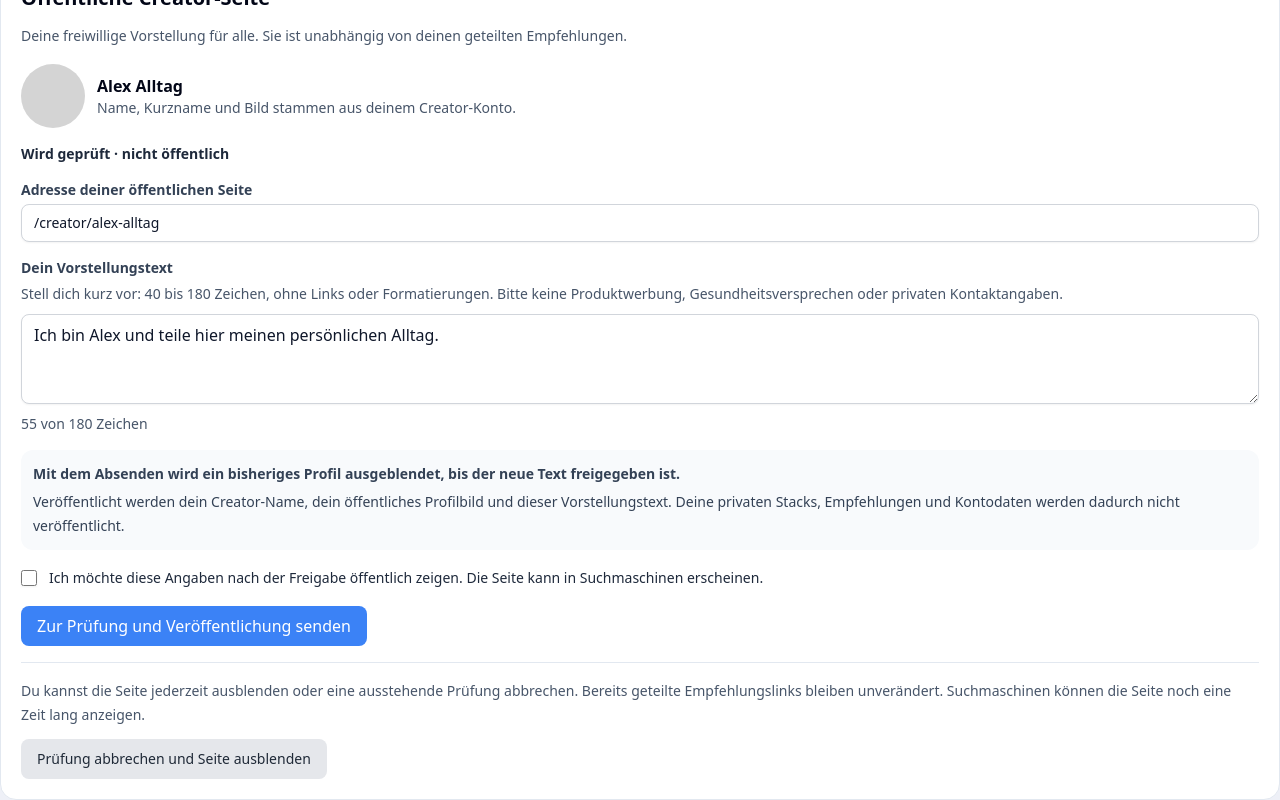
Scenario: Creator public profile owner settings › withdraws a pending review only after explicit confirmation with its exact version
(page scrolled)
Step 1. Click the button "Prüfung abbrechen und Seite ausblenden" → (174, 759), box [21,739,327,779]
(page scrolled)
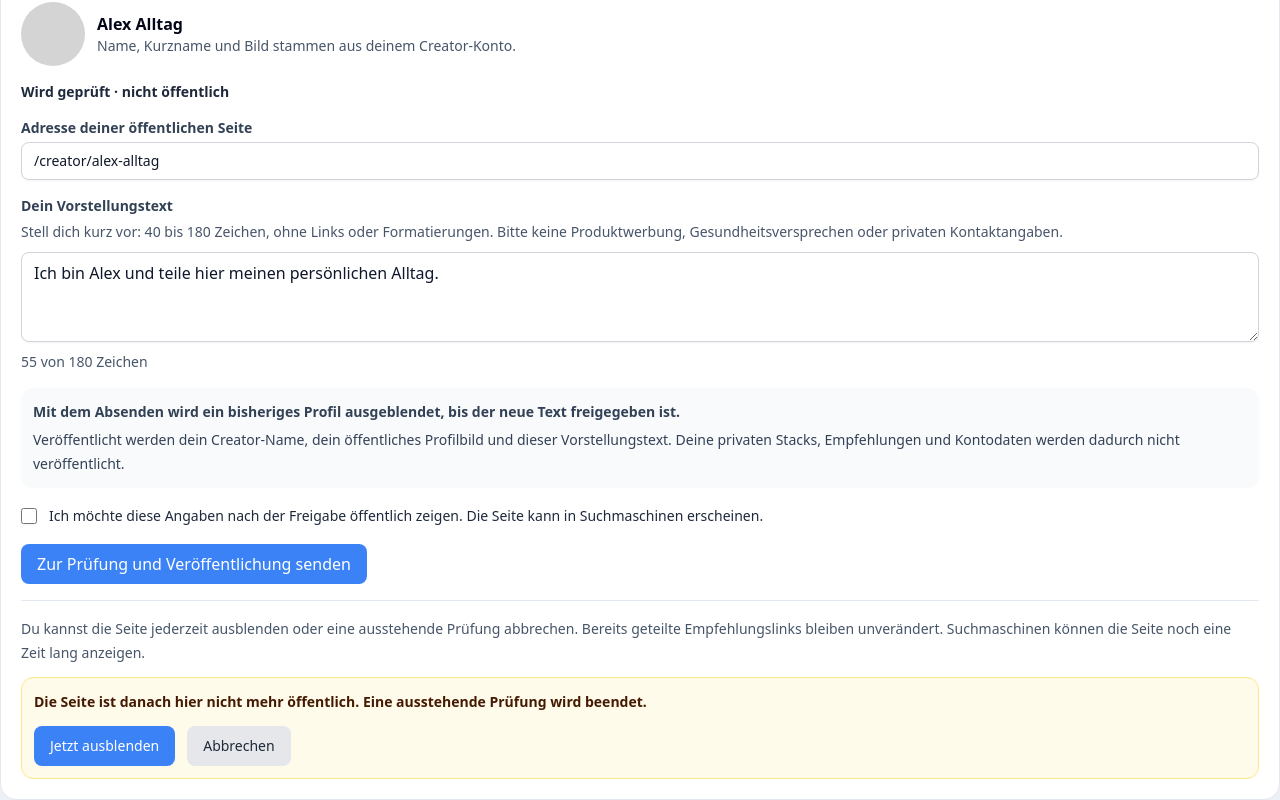
Step 2. Click the button "Abbrechen" → (239, 746), box [187,726,291,766]
(page scrolled)
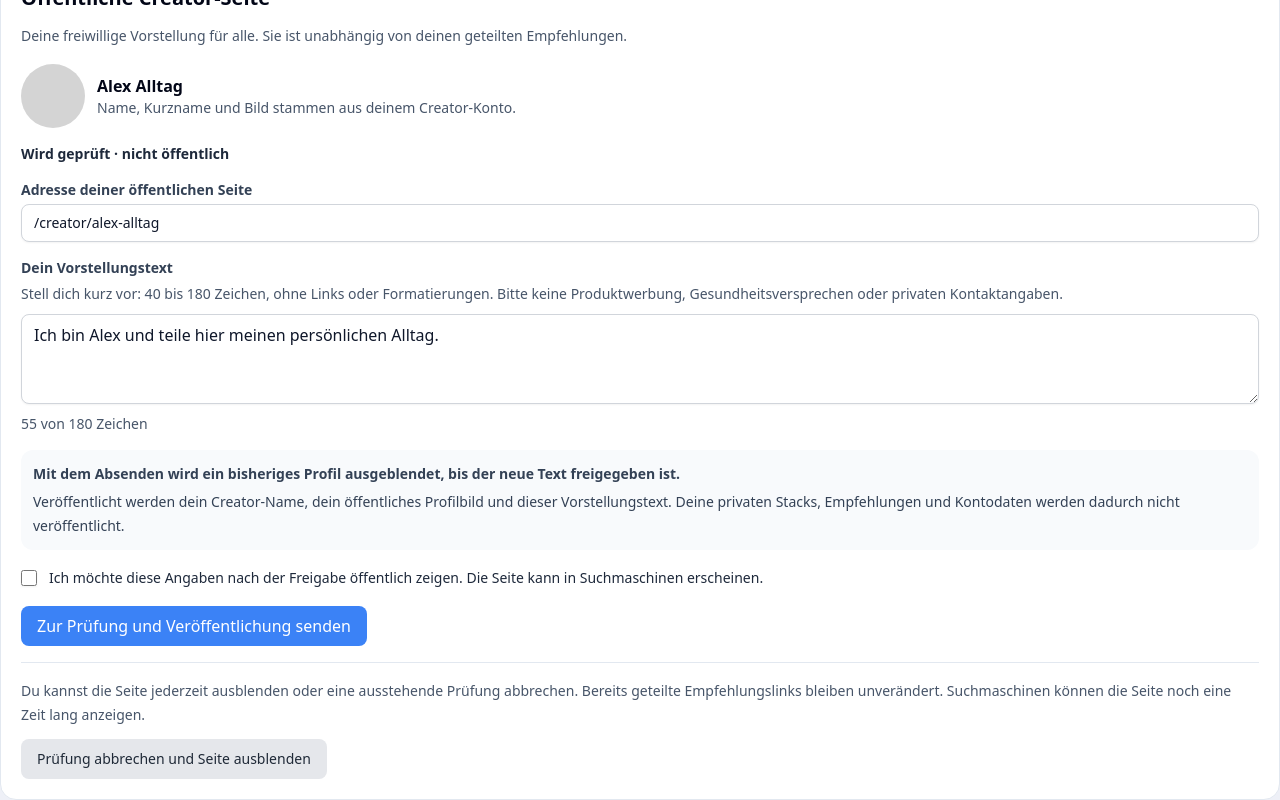
Step 3. Click the button "Prüfung abbrechen und Seite ausblenden" → (174, 759), box [21,739,327,779]
(page scrolled)
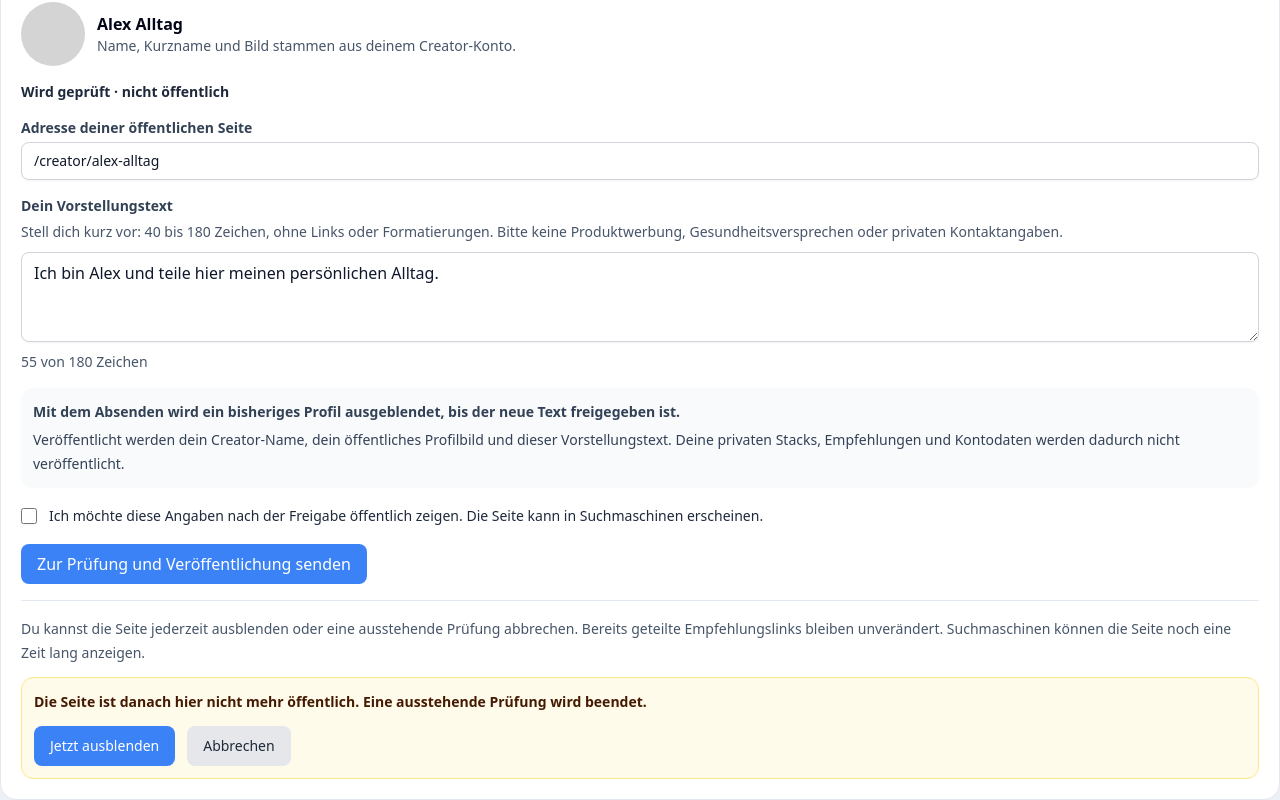
Step 4. Click the button "Jetzt ausblenden" → (105, 746), box [34,726,175,766]
(page scrolled)
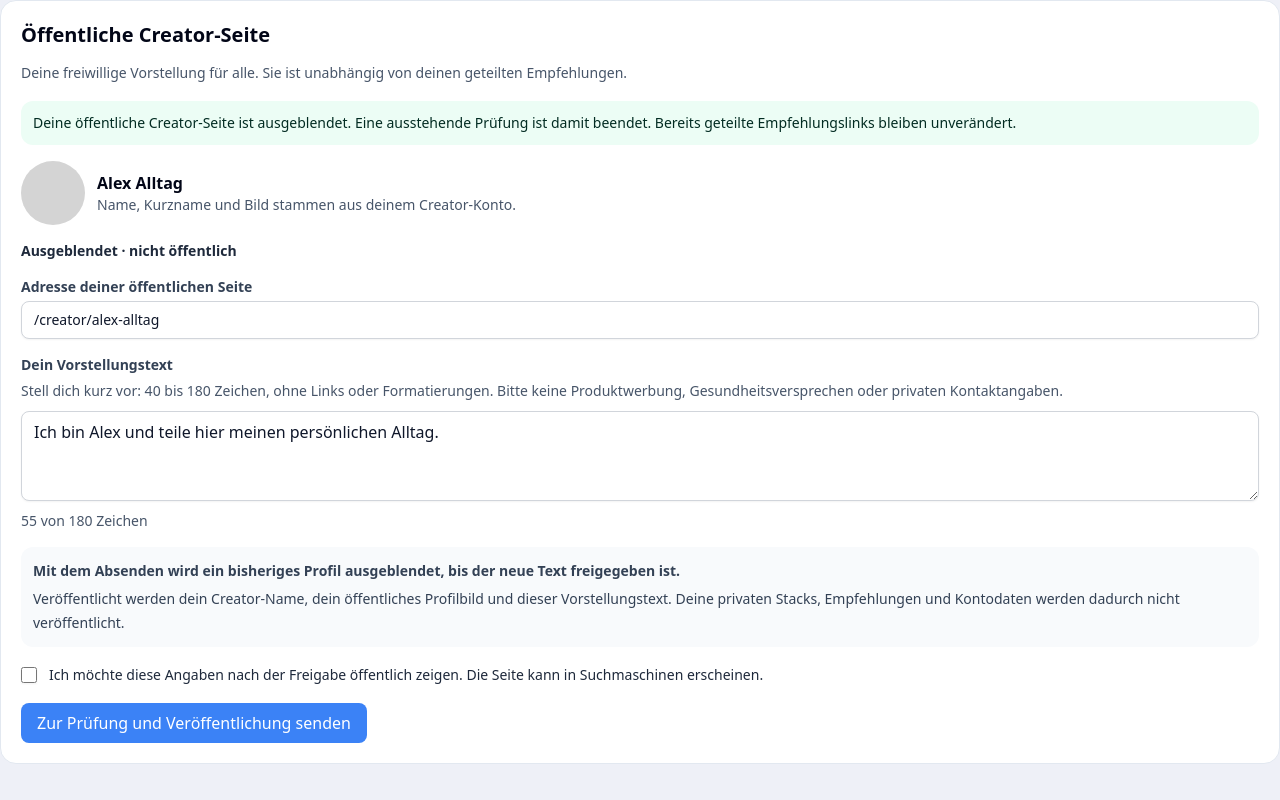
Check: the text "Ausgeblendet · nicht öffentlich" is shown, box [21,241,237,260]
Check: the text "Eine ausstehende Prüfung ist damit beendet" is shown, box [33,113,1016,132]
Check: the button "Jetzt ausblenden" is gone
